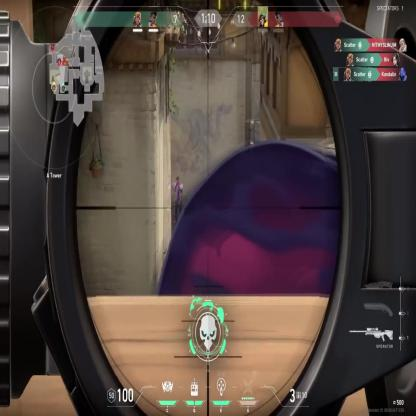enemy: (171, 174, 184, 226)
enemy_head: (176, 176, 180, 184)
